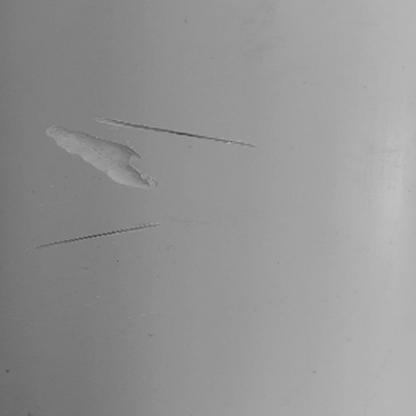sunshang: (44, 123, 156, 193), (97, 112, 257, 150), (35, 223, 159, 250)
